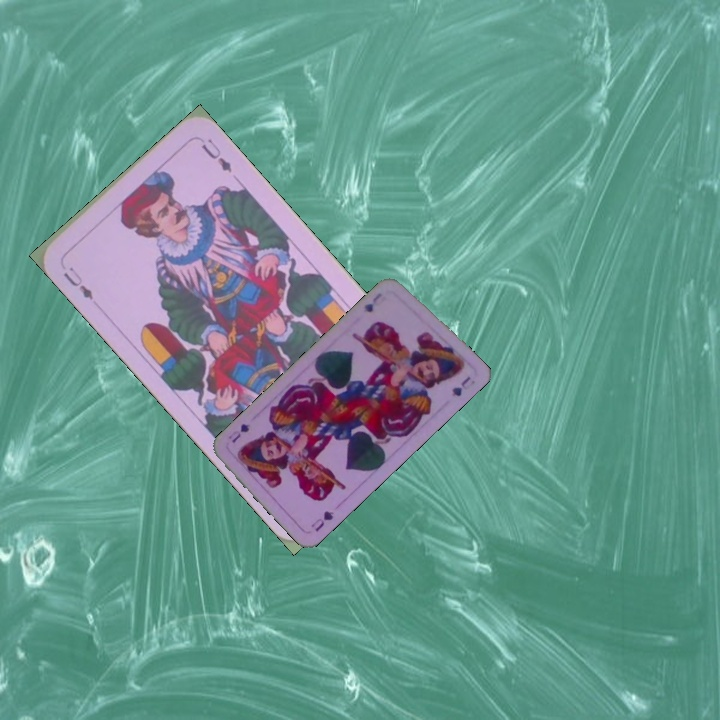EU: (59, 263, 97, 303)
GU: (307, 507, 336, 534), (360, 288, 384, 315)
